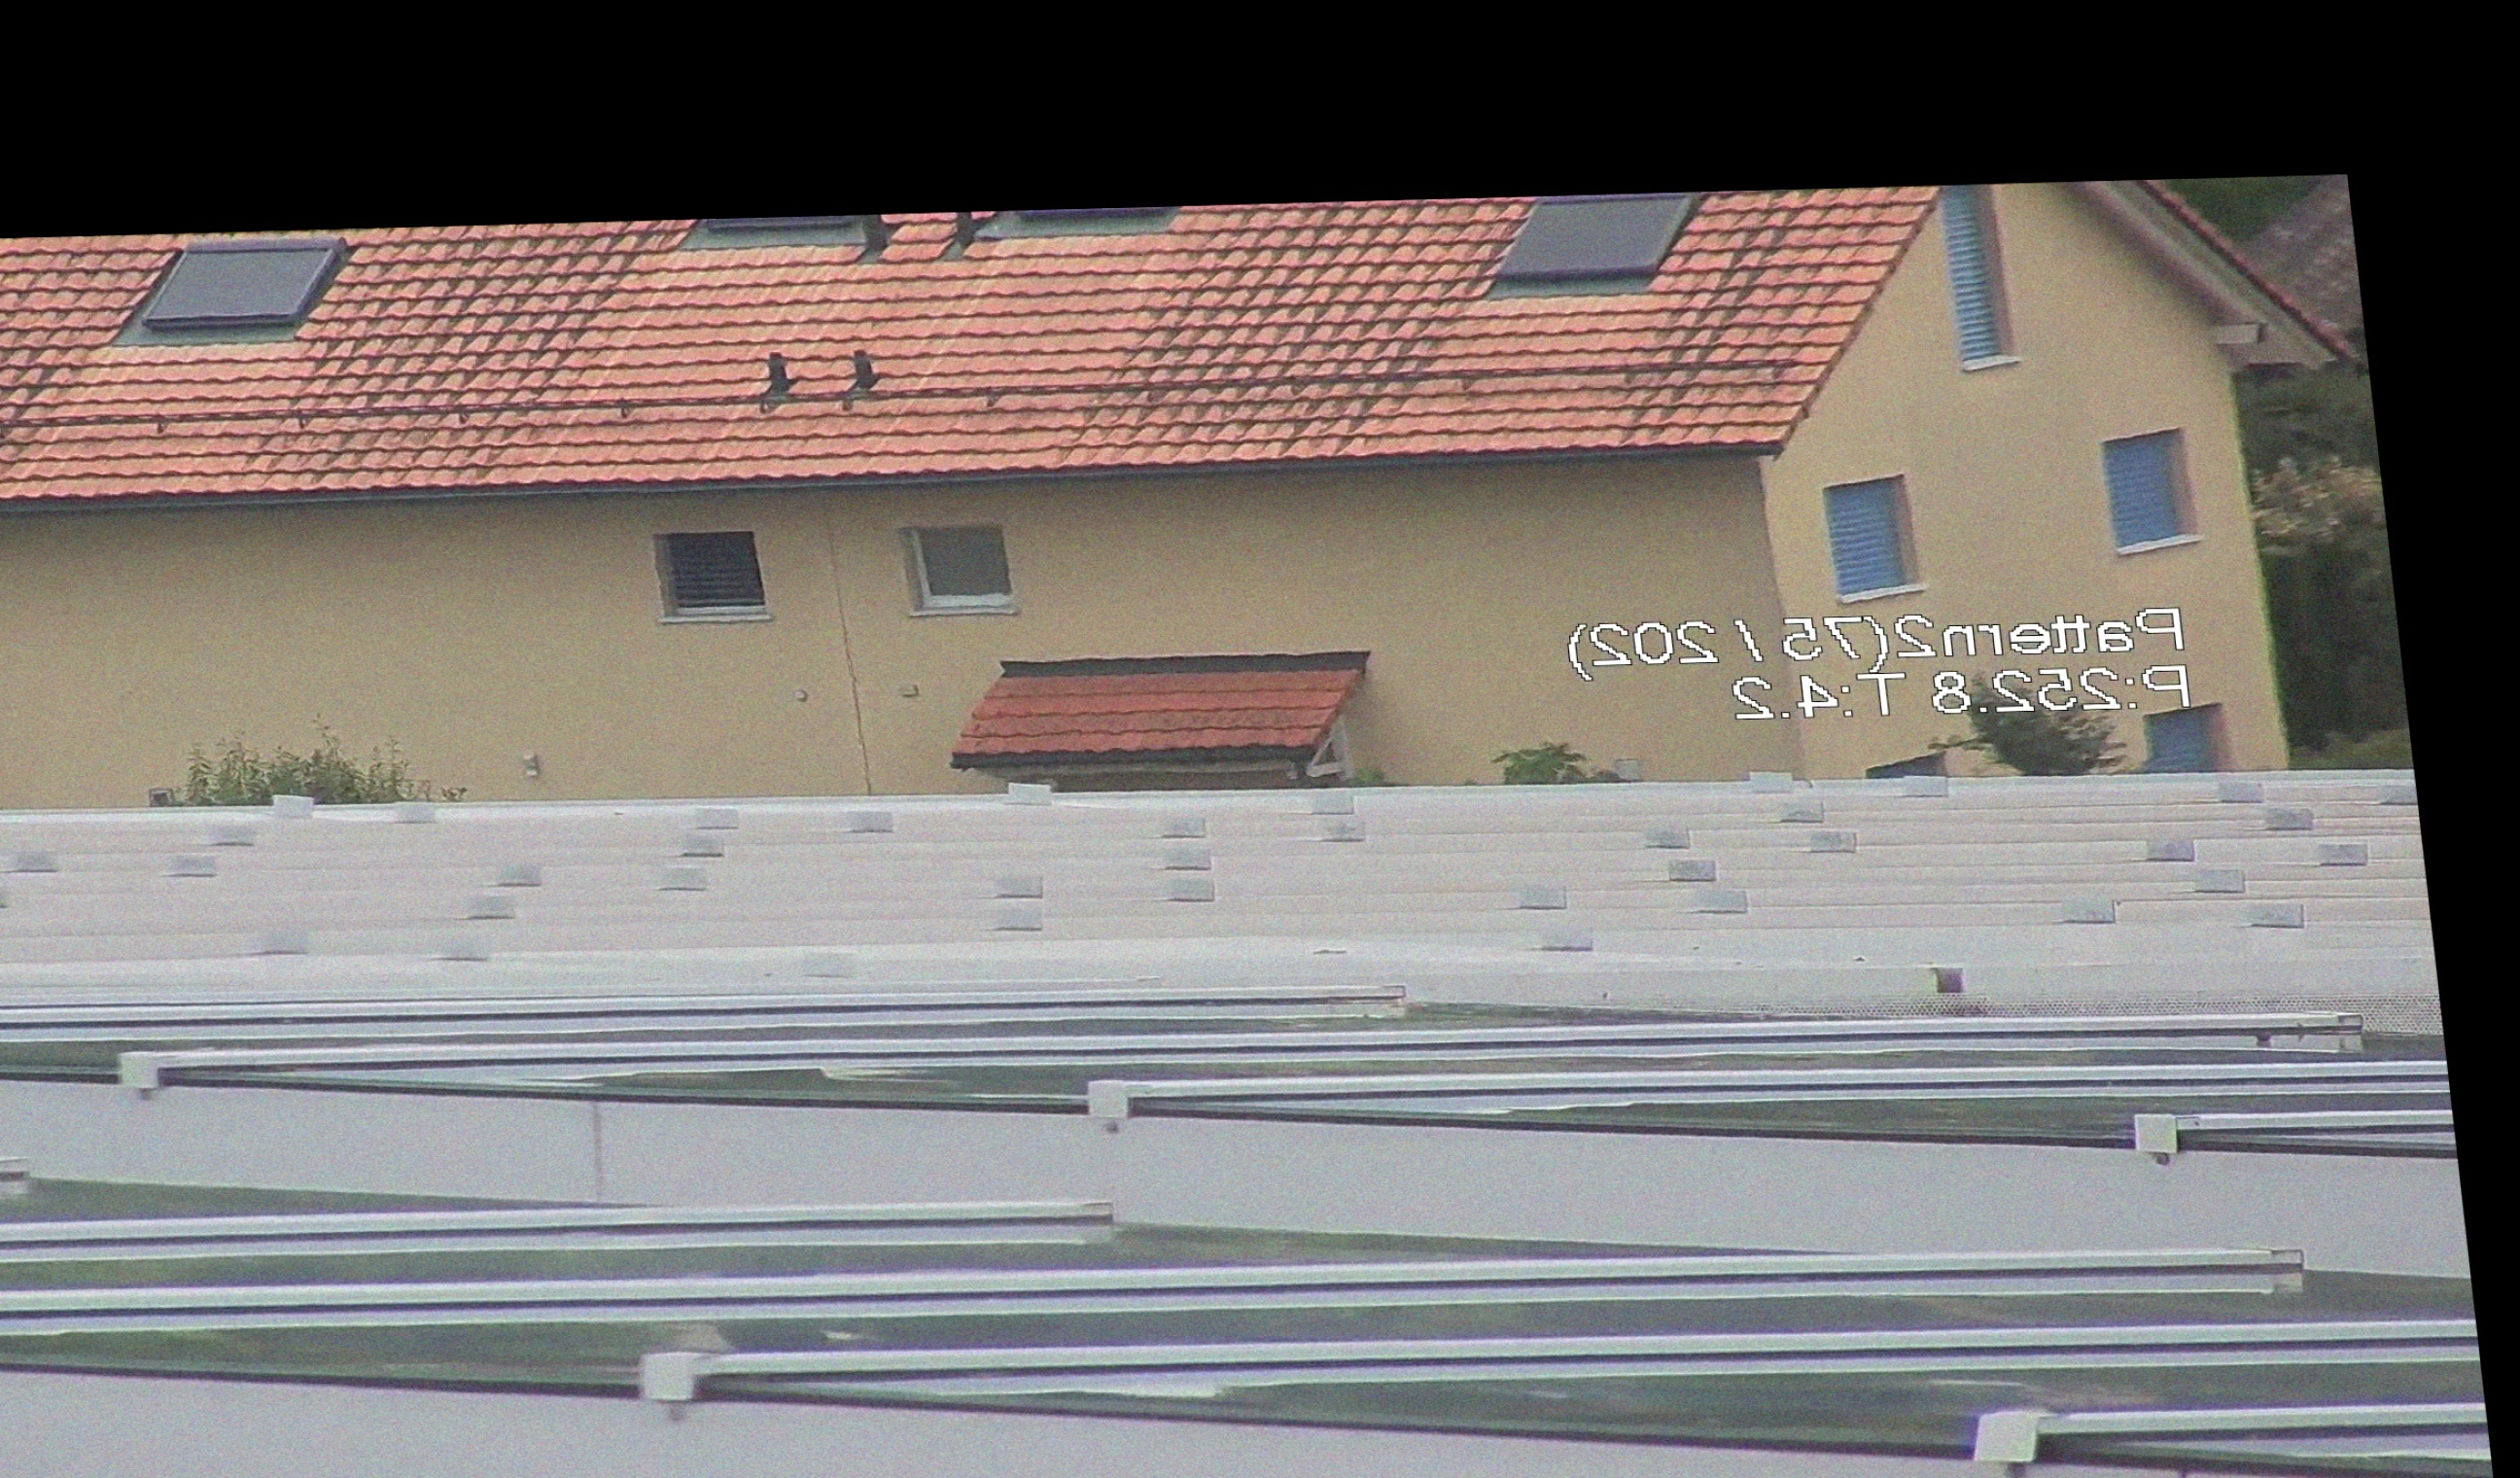Other: (1933, 670, 2161, 788)
